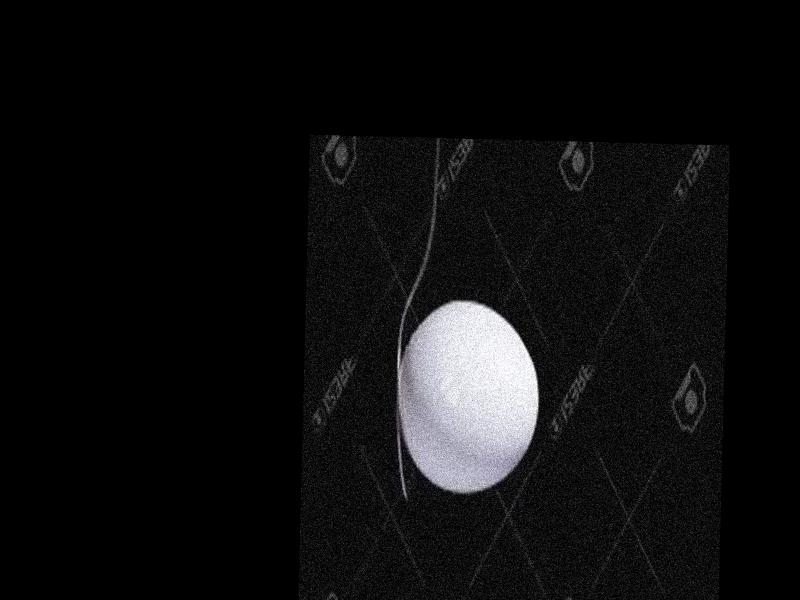Eggs: (395, 298, 539, 495)
